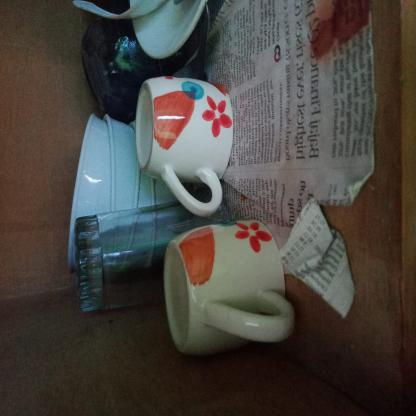cup: (165, 23, 269, 201), (55, 105, 163, 239)
